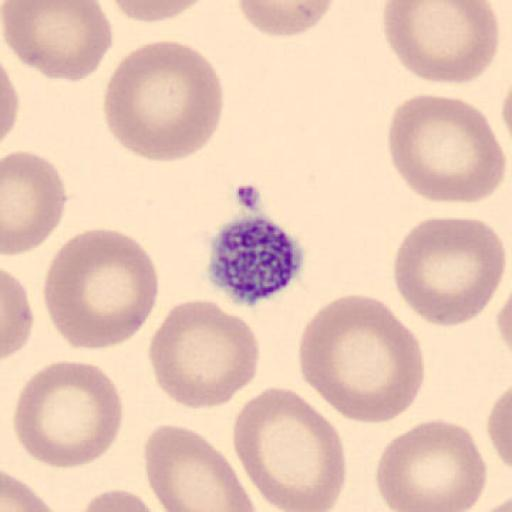Platelet: (204, 211, 309, 307)
RBC: (296, 293, 426, 424), (102, 38, 225, 165), (231, 385, 348, 512), (43, 226, 160, 350), (386, 92, 507, 204), (392, 214, 506, 328), (148, 297, 260, 411), (13, 360, 125, 470), (374, 417, 488, 512), (381, 0, 501, 86), (143, 423, 258, 512), (1, 0, 114, 83), (2, 149, 68, 257), (480, 392, 512, 512), (237, 0, 336, 38), (488, 383, 512, 507), (2, 269, 34, 359), (2, 471, 66, 512), (108, 0, 213, 23), (488, 383, 512, 476), (76, 488, 162, 512), (2, 60, 22, 142), (496, 253, 512, 351), (495, 287, 512, 355)
